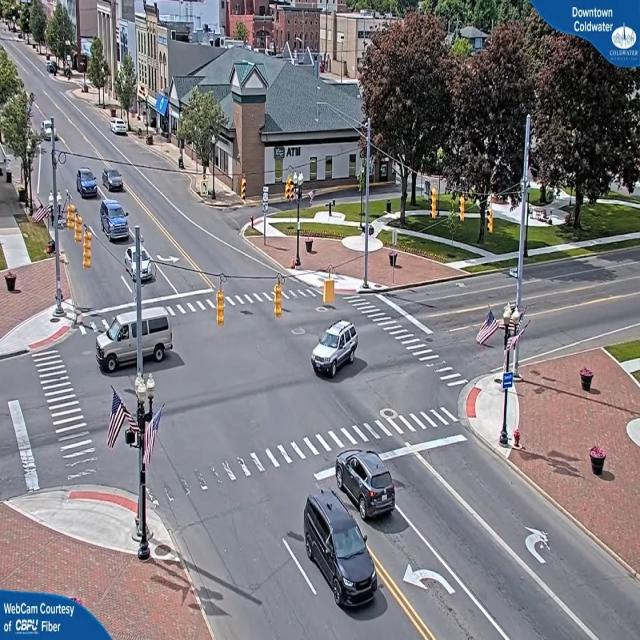car: (302, 487, 380, 613), (332, 452, 398, 522), (95, 310, 172, 368), (312, 320, 361, 378), (102, 202, 132, 242), (128, 243, 154, 284), (76, 169, 98, 199), (105, 168, 126, 192), (112, 119, 130, 136)
